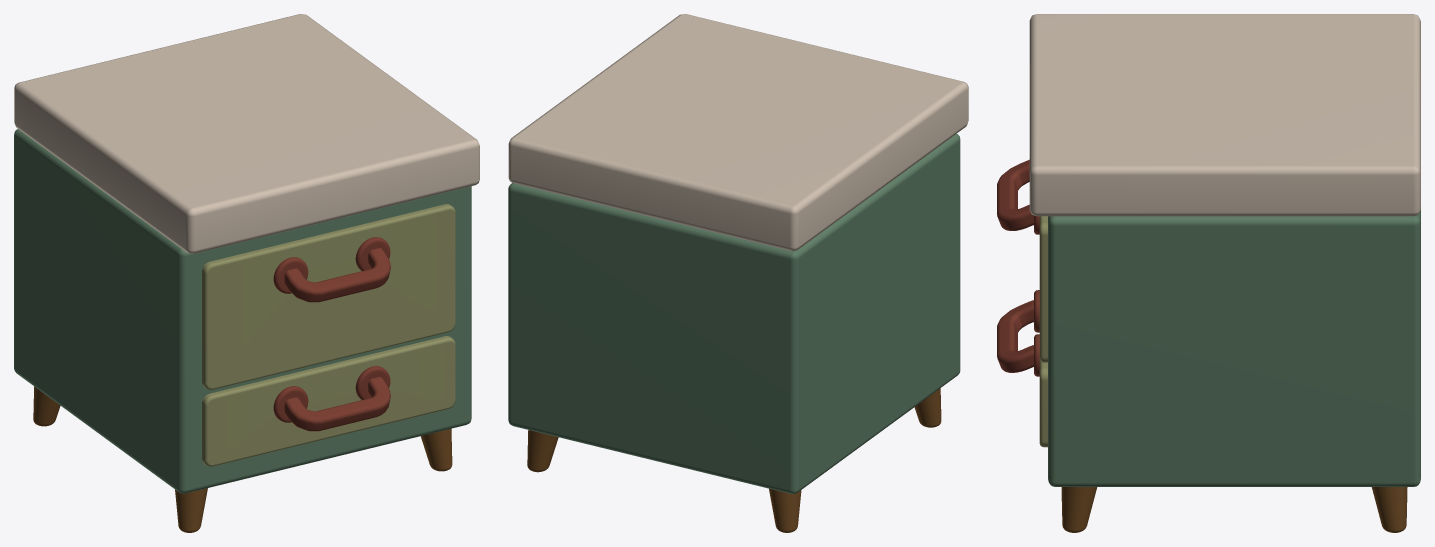
The model's file is SM_Kitchen_Cabinet_B.fbx.
3 views of the same model, side by side, from view 1: azimuth 30°, elevation 25°; view 2: azimuth 150°, elevation 25°; view 3: azimuth 270°, elevation 25° (orthographic). The views are drawn at different scales.
Visible parts, largest first — view 1: Cube.025, Cube.023, Cube.024, Cylinder.008, Plane.031, Plane.032, Cylinder.018, Cylinder.017; view 2: Cube.023, Cube.025, Cylinder.008; view 3: Cube.023, Cube.025, Cylinder.008, Cube.024, Plane.032, Plane.031, Cylinder.018.
Boxes of the visible parts, x1,y1,x2,y2 form: Cube.025: (14,14,479,253); Cube.023: (14,129,471,493); Cube.024: (202,204,455,466); Cylinder.008: (33,386,452,532); Plane.031: (284,248,390,302); Plane.032: (284,377,390,431); Cylinder.018: (273,366,390,422); Cylinder.017: (273,237,390,293); Cube.023: (508,134,960,494); Cube.025: (508,14,968,250); Cylinder.008: (527,388,941,532); Cube.023: (1048,209,1420,486); Cube.025: (1029,14,1420,216); Cylinder.008: (1061,487,1407,532); Cube.024: (1039,216,1047,447); Plane.032: (997,300,1033,372); Plane.031: (997,159,1033,230); Cylinder.018: (1034,290,1039,376).
Size of the model in its own units: 100 by 110 by 114.
